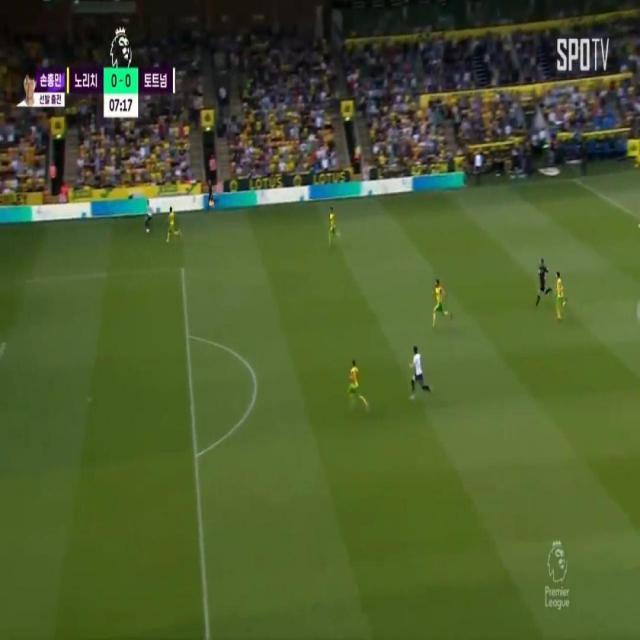ball: (144, 227, 153, 239)
player: (407, 341, 430, 403), (347, 357, 372, 413), (429, 275, 451, 327), (551, 271, 571, 317), (327, 204, 346, 249), (163, 203, 179, 241), (145, 194, 154, 238)
referee: (533, 250, 553, 308), (203, 171, 219, 219)
